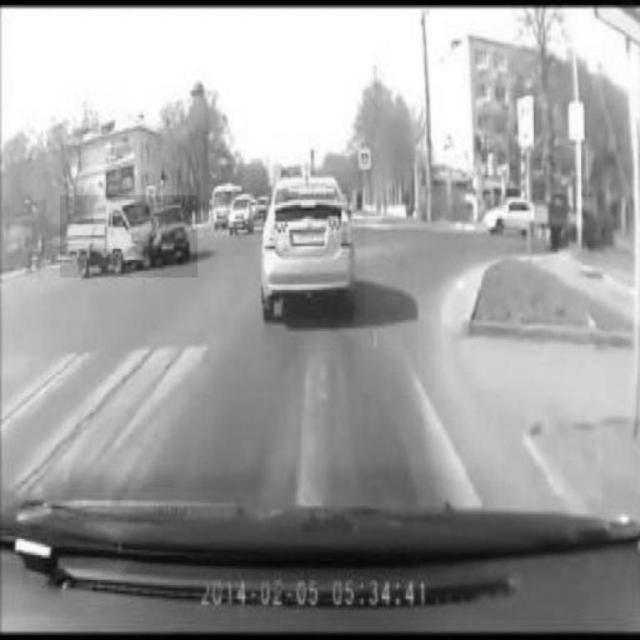accident: (262, 172, 365, 319), (60, 195, 197, 277), (230, 194, 256, 236)
